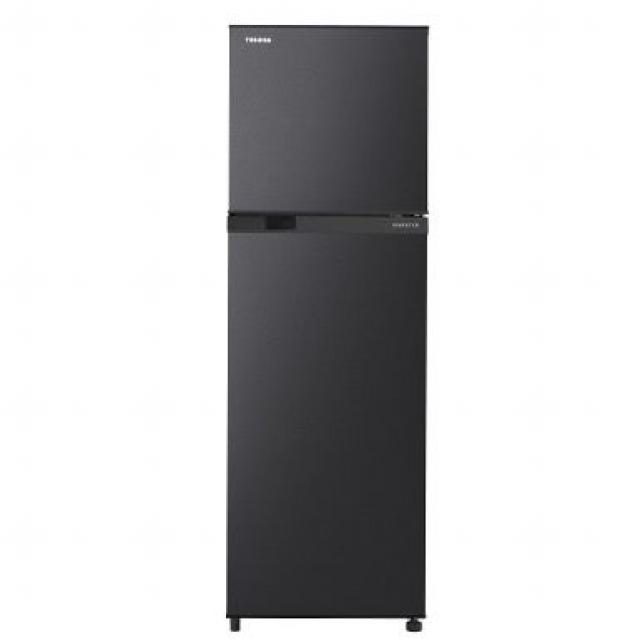refrigerator: (228, 25, 426, 618)
